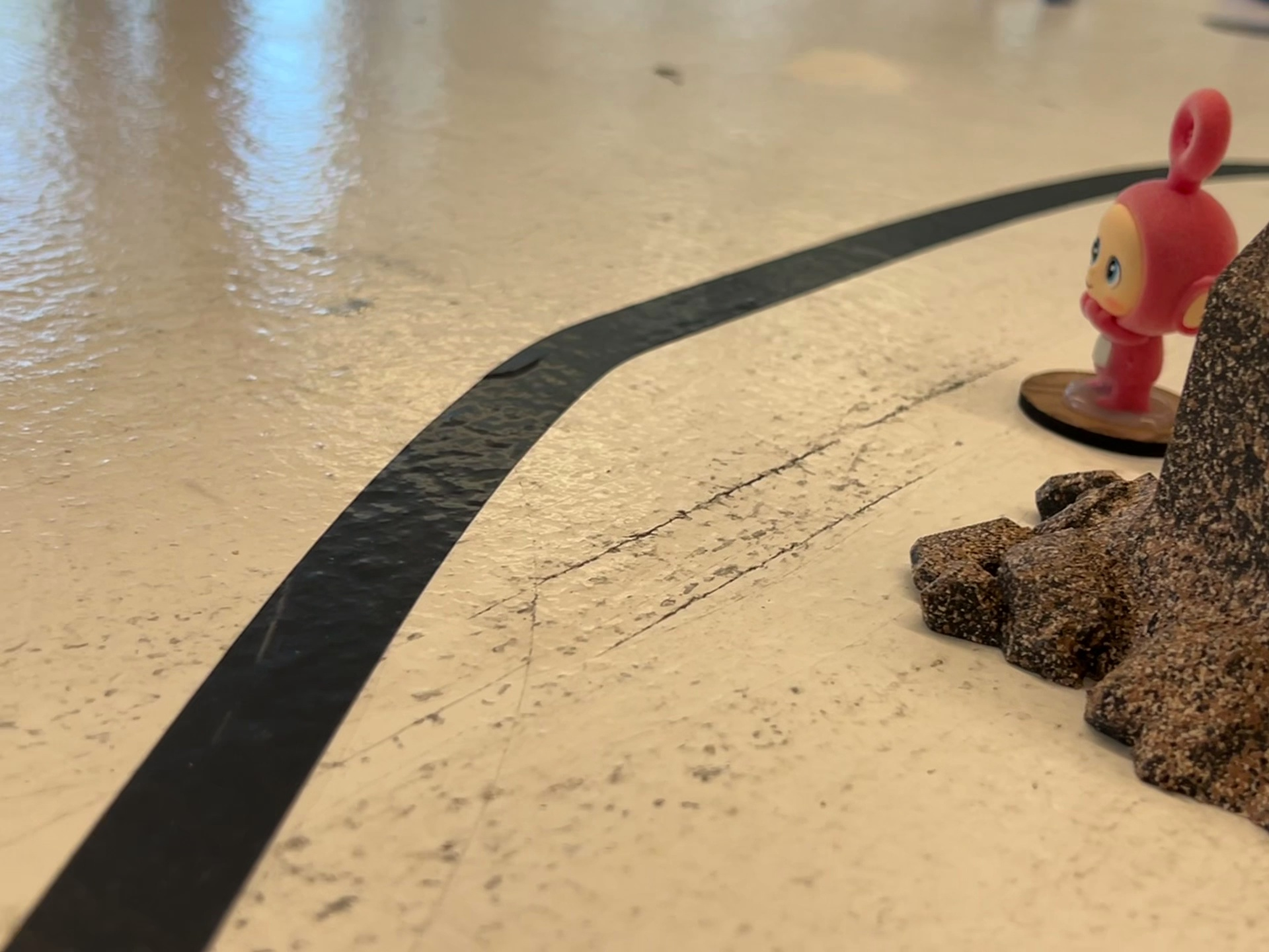teletubby: (1080, 89, 1241, 415)
